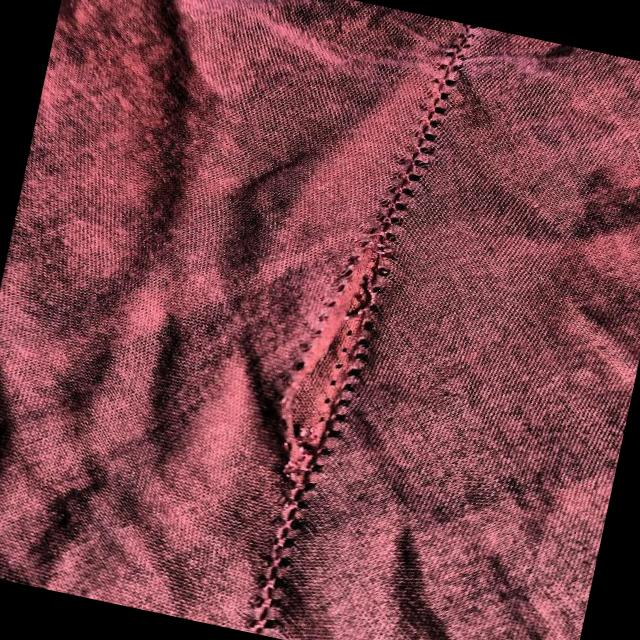gray stitch: (263, 183, 438, 525)
